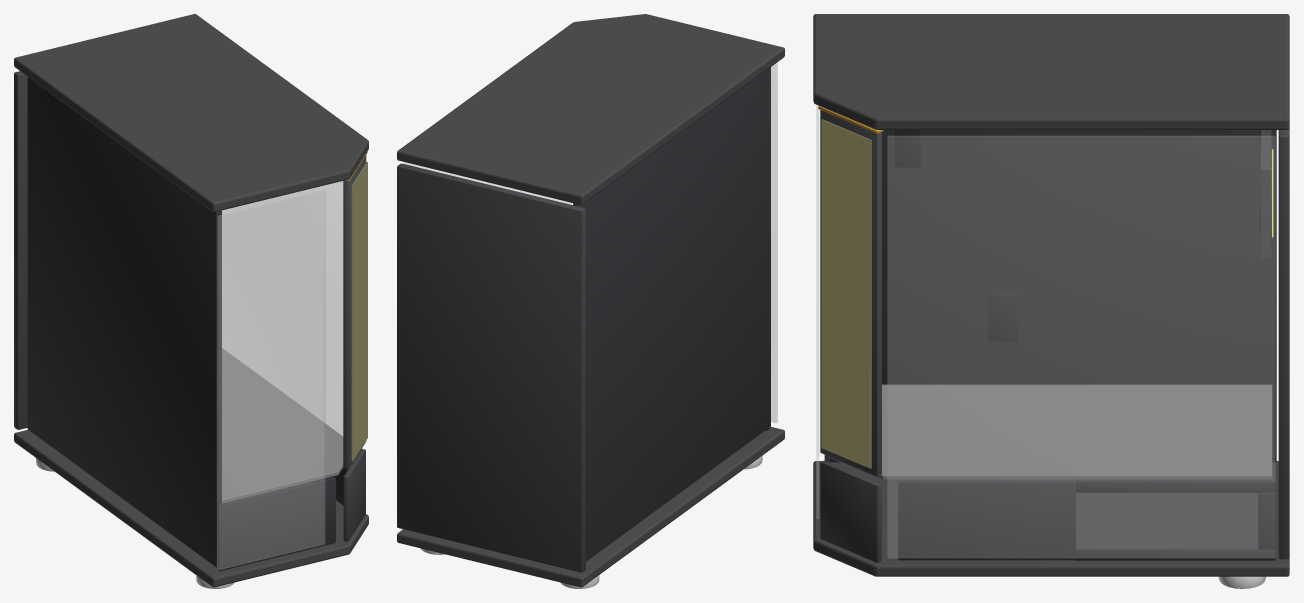
The model's file is case_y70_touch.glb.
The picture shows the model from 3 angles, left to right: view 1: azimuth 30°, elevation 25°; view 2: azimuth 150°, elevation 25°; view 3: azimuth 270°, elevation 25°; orthographic projection. The views are drawn at different scales.
Parts seen in each view (by area): view 1: Case_Y70_Touch, Case_Glass_Front.002, Case_Glass_Side.003, LCD_Y70_TouchScreen; view 2: Case_Y70_Touch, Case_Glass_Front.002; view 3: Case_Y70_Touch, Case_Glass_Side.003, LCD_Y70_TouchScreen, Y70_RearFan_Frame, Case_Glass_Front.002.
Boxes of the visible parts, x1=… form: Case_Y70_Touch: x1=14, y1=14, x2=368, y2=588; Case_Glass_Front.002: x1=217, y1=190, x2=325, y2=569; Case_Glass_Side.003: x1=222, y1=181, x2=362, y2=448; LCD_Y70_TouchScreen: x1=351, y1=162, x2=367, y2=461; Case_Y70_Touch: x1=397, y1=14, x2=784, y2=588; Case_Glass_Front.002: x1=771, y1=62, x2=777, y2=423; Case_Y70_Touch: x1=813, y1=14, x2=1289, y2=588; Case_Glass_Side.003: x1=887, y1=136, x2=1275, y2=557; LCD_Y70_TouchScreen: x1=821, y1=119, x2=871, y2=468; Y70_RearFan_Frame: x1=1260, y1=130, x2=1271, y2=259; Case_Glass_Front.002: x1=816, y1=105, x2=818, y2=518.
Size of the model in its own units: 2.34 by 4.88 by 4.44.
